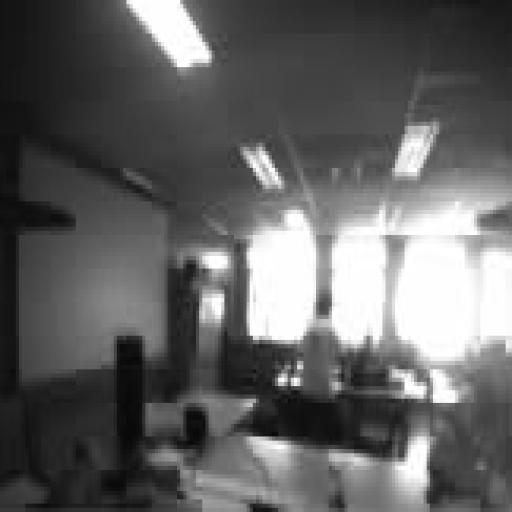human: (298, 292, 343, 440)
